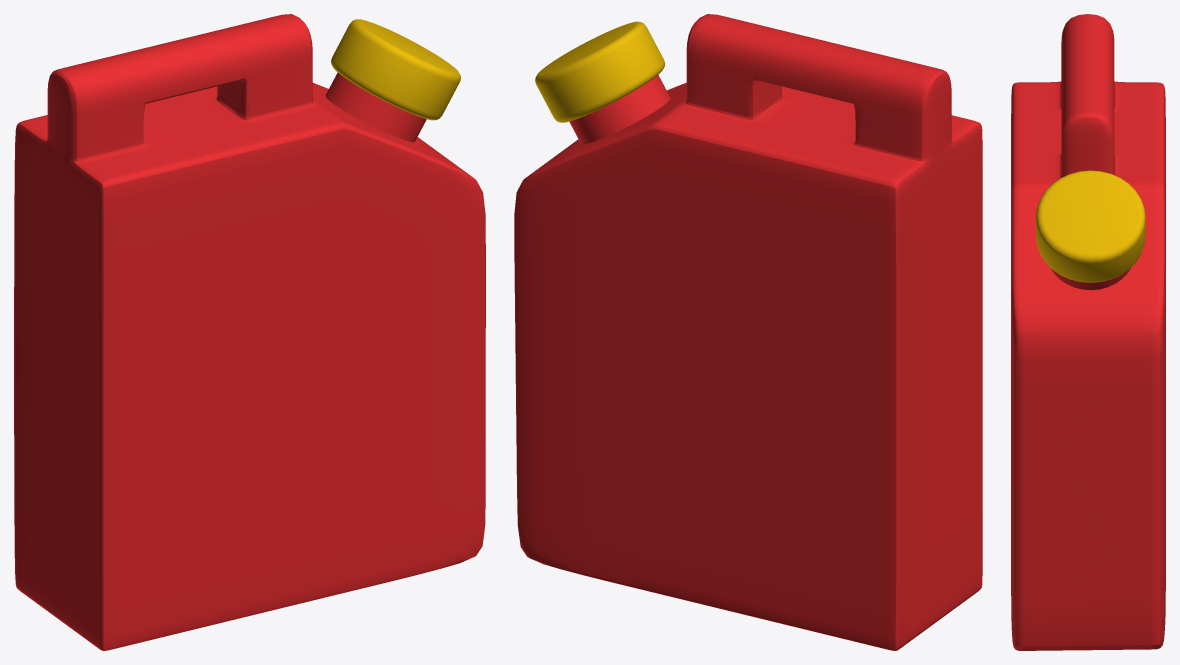
Rendered from Jirigen Bensin.fbx.
3 renders of one model, left to right at view 1: azimuth 30°, elevation 25°; view 2: azimuth 150°, elevation 25°; view 3: azimuth 270°, elevation 25°, orthographic. The views are drawn at different scales.
Visible parts, largest first — view 1: Cube, Cylinder; view 2: Cube, Cylinder; view 3: Cube, Cylinder.
Part boxes in pixels (left/top/right/bottom): Cube: left=14, top=14, right=485, bottom=650; Cylinder: left=325, top=19, right=460, bottom=142; Cube: left=514, top=14, right=982, bottom=650; Cylinder: left=535, top=21, right=670, bottom=144; Cube: left=1011, top=14, right=1165, bottom=650; Cylinder: left=1036, top=170, right=1145, bottom=290.
Bounding box in the file's own units: 218 × 289 × 84.31.
